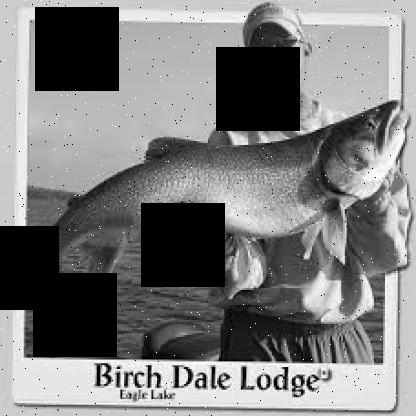fish: (0, 94, 405, 320)
